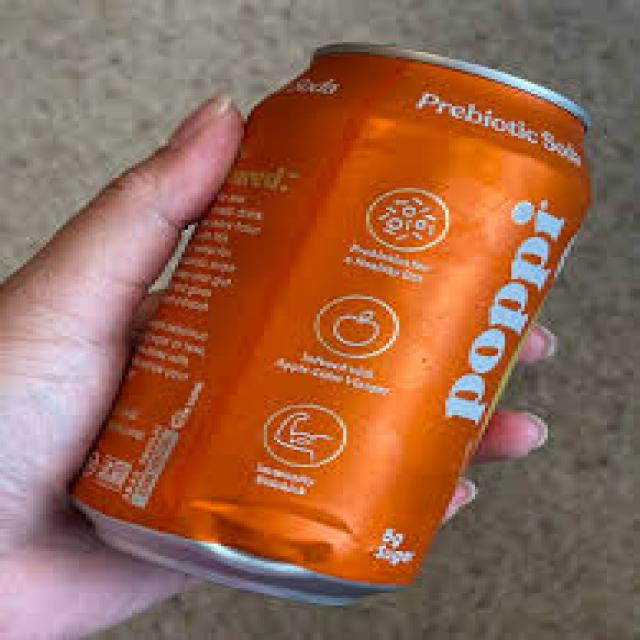Cans: (76, 37, 597, 603)
